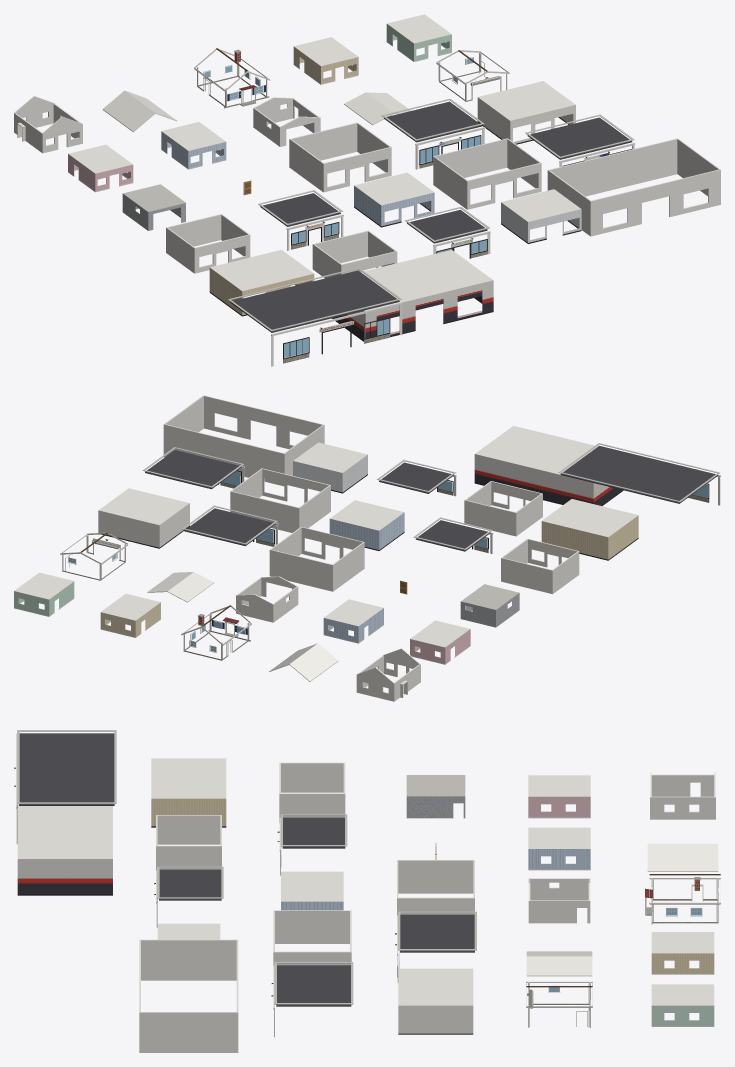
Rendered from MogLife_Step1.fbx.
3 renders of one model, top to bottom at view 1: azimuth 30°, elevation 25°; view 2: azimuth 150°, elevation 25°; view 3: azimuth 270°, elevation 25°, orthographic. The views are drawn at different scales.
Parts seen in each view (by area): view 1: Shop_Gym_Walls, Shop_Gym_Trim, Shop_Gym_Interior, Shop_Furniture_Walls, Shop_Clothes_Walls, Shop_Clothes_Interior, Shop_Furniture_Interior, Shop_Clothes_Trim, Shop_Barber_Walls, Shop_Furniture_Trim, Shop_Barber_Interior, Shop_Grocery_Interior (+14 smaller); view 2: Shop_Gym_Walls, Shop_Gym_Interior, Shop_Gym_Trim, Shop_Furniture_Interior, Shop_Clothes_Walls, Shop_Clothes_Interior, Shop_Furniture_Walls, Shop_Barber_Walls, Shop_Grocery_Walls, Shop_Furniture_Trim, Shop_Barber_Interior, Shop_Grocery_Interior (+14 smaller); view 3: Shop_Gym_Interior, Shop_Gym_Walls, Shop_Gym_Trim, Shop_Clothes_Interior, Shop_Furniture_Interior, Shop_Clothes_Walls, Shop_Furniture_Walls, Shop_Barber_Walls, Shop_Furniture_Trim, Shop_Grocery_Walls, Shop_Clothes_Trim, House_Walls (+14 smaller).
Part boxes in pixels (bbox=[...]): Shop_Gym_Walls: bbox=[547, 138, 720, 236]; Shop_Gym_Trim: bbox=[228, 267, 402, 366]; Shop_Gym_Interior: bbox=[332, 250, 493, 341]; Shop_Furniture_Walls: bbox=[433, 138, 541, 209]; Shop_Clothes_Walls: bbox=[289, 122, 391, 192]; Shop_Clothes_Interior: bbox=[477, 81, 575, 144]; Shop_Furniture_Interior: bbox=[209, 250, 314, 316]; Shop_Clothes_Trim: bbox=[381, 98, 485, 169]; Shop_Barber_Walls: bbox=[166, 214, 250, 273]; Shop_Furniture_Trim: bbox=[525, 114, 635, 166]; Shop_Barber_Interior: bbox=[354, 172, 434, 227]; Shop_Grocery_Interior: bbox=[501, 189, 581, 243]; Shop_Gym_Walls: bbox=[163, 395, 324, 486]; Shop_Gym_Interior: bbox=[474, 425, 623, 505]; Shop_Gym_Trim: bbox=[558, 443, 720, 505]; Shop_Furniture_Interior: bbox=[541, 499, 638, 560]; Shop_Clothes_Walls: bbox=[269, 526, 364, 591]; Shop_Clothes_Interior: bbox=[98, 488, 189, 548]; Shop_Furniture_Walls: bbox=[230, 468, 330, 532]; Shop_Barber_Walls: bbox=[501, 538, 579, 594]; Shop_Grocery_Walls: bbox=[464, 481, 542, 536]; Shop_Furniture_Trim: bbox=[142, 447, 244, 489]; Shop_Barber_Interior: bbox=[329, 500, 404, 550]; Shop_Grocery_Interior: bbox=[293, 442, 367, 493]; Shop_Gym_Interior: bbox=[17, 804, 112, 895]; Shop_Gym_Walls: bbox=[139, 939, 238, 1052]; Shop_Gym_Trim: bbox=[14, 730, 116, 844]; Shop_Clothes_Interior: bbox=[398, 968, 473, 1034]; Shop_Furniture_Interior: bbox=[151, 758, 226, 827]; Shop_Clothes_Walls: bbox=[397, 860, 474, 915]; Shop_Furniture_Walls: bbox=[273, 910, 351, 965]; Shop_Barber_Walls: bbox=[279, 762, 345, 822]; Shop_Furniture_Trim: bbox=[271, 962, 353, 1037]; Shop_Grocery_Walls: bbox=[156, 815, 221, 870]; Shop_Clothes_Trim: bbox=[395, 911, 476, 982]; House_Walls: bbox=[650, 772, 715, 819].
Bounding box in the file's own units: 324 × 21.85 × 343.
1 material, 1 textured.
